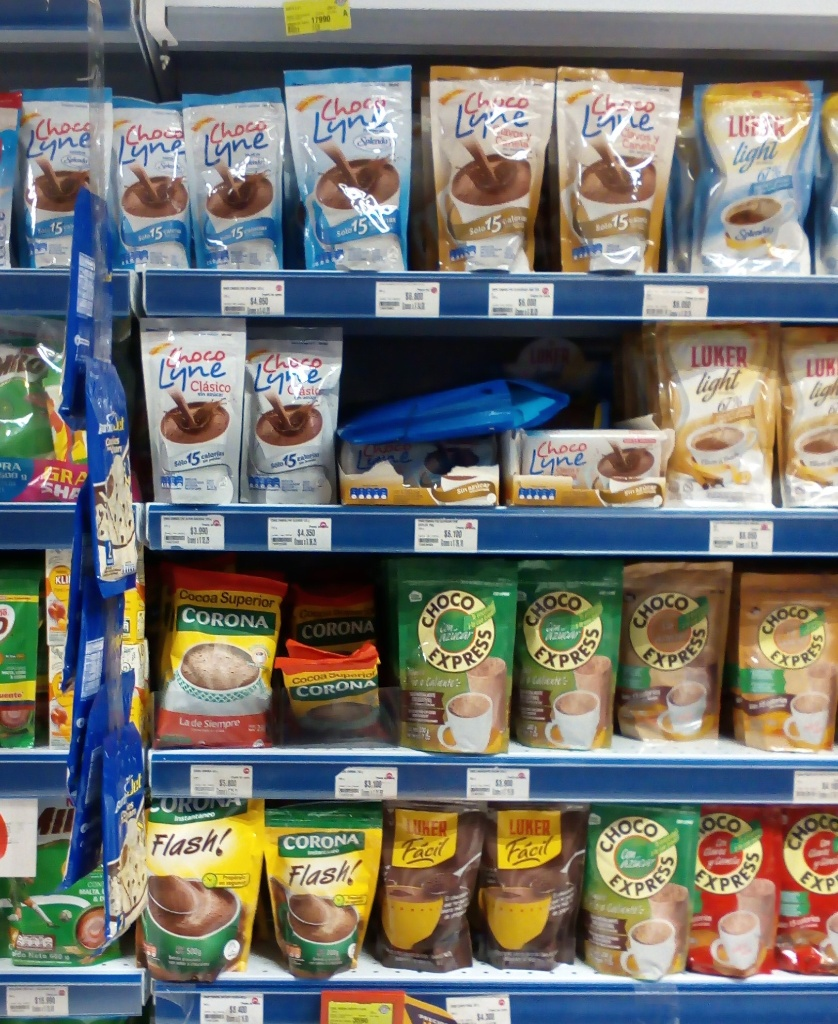COL0170205DYP50000: (1, 332, 54, 499)
